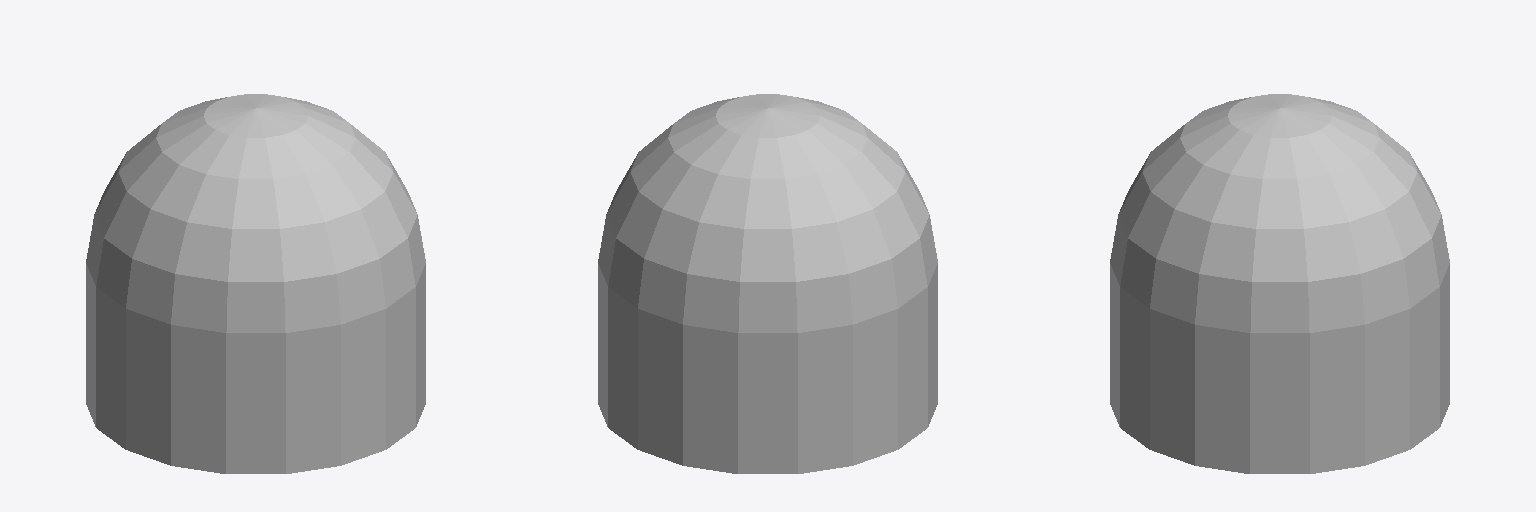
Rendered from sky.obj.
The picture shows the model from 3 angles: view 1: azimuth 30°, elevation 25°; view 2: azimuth 150°, elevation 25°; view 3: azimuth 270°, elevation 25°; orthographic projection.
Visible parts, largest first — view 1: Sphere.001; view 2: Sphere.001; view 3: Sphere.001.
Boxes of the visible parts, box(x1,y1,x2,y2) form: Sphere.001: box(86, 94, 425, 473); Sphere.001: box(598, 94, 937, 473); Sphere.001: box(1110, 94, 1449, 473).
Bounding box in the file's own units: 209 × 203 × 212.